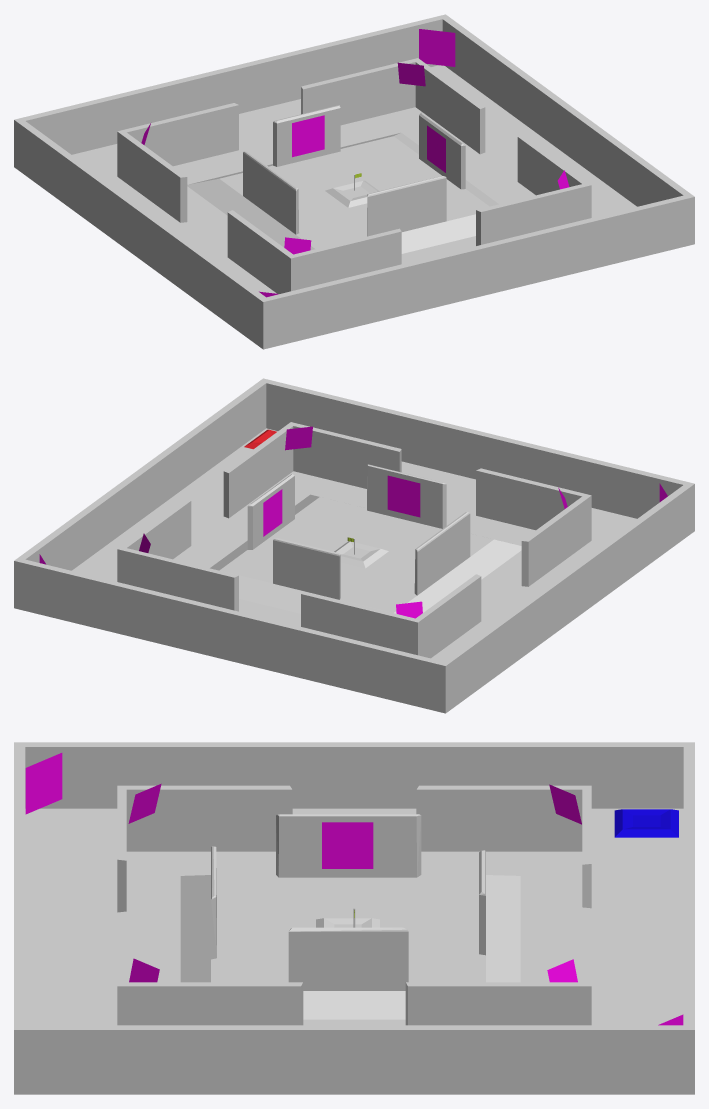
Rendered from module_0 - Copy.glb.
3 renders of one model, top to bottom at view 1: azimuth 30°, elevation 25°; view 2: azimuth 150°, elevation 25°; view 3: azimuth 270°, elevation 25°, orthographic. The views are drawn at different scales.
Parts seen in each view (by area): view 1: SCENE, MIRROR_0, MIRROR_4, MIRROR_3, MIRROR_6.001; view 2: SCENE, MIRROR_5, MIRROR_3, MIRROR_6; view 3: SCENE, MIRROR_2, SO_SPAWN_T0_INCLUDEMESH, MIRROR_1, MIRROR_6.003, MIRROR_6.002, MIRROR_6, MIRROR_6.001.
Part boxes in pixels (left/top/right/bottom): SCENE: left=14, top=14, right=694, bottom=349; MIRROR_0: left=419, top=29, right=455, bottom=66; MIRROR_4: left=292, top=115, right=324, bottom=157; MIRROR_3: left=427, top=125, right=445, bottom=172; MIRROR_6.001: left=397, top=62, right=425, bottom=86; SCENE: left=14, top=378, right=694, bottom=713; MIRROR_5: left=387, top=475, right=420, bottom=517; MIRROR_3: left=263, top=489, right=282, bottom=536; MIRROR_6: left=285, top=426, right=312, bottom=450; SCENE: left=14, top=742, right=694, bottom=1094; MIRROR_2: left=322, top=822, right=373, bottom=868; SO_SPAWN_T0_INCLUDEMESH: left=614, top=809, right=678, bottom=837; MIRROR_1: left=25, top=753, right=62, bottom=814; MIRROR_6.003: left=128, top=783, right=161, bottom=823; MIRROR_6.002: left=549, top=784, right=581, bottom=824; MIRROR_6: left=129, top=958, right=159, bottom=982; MIRROR_6.001: left=547, top=959, right=577, bottom=982.
Size of the model in its own units: 26.47 by 3.41 by 26.47.
